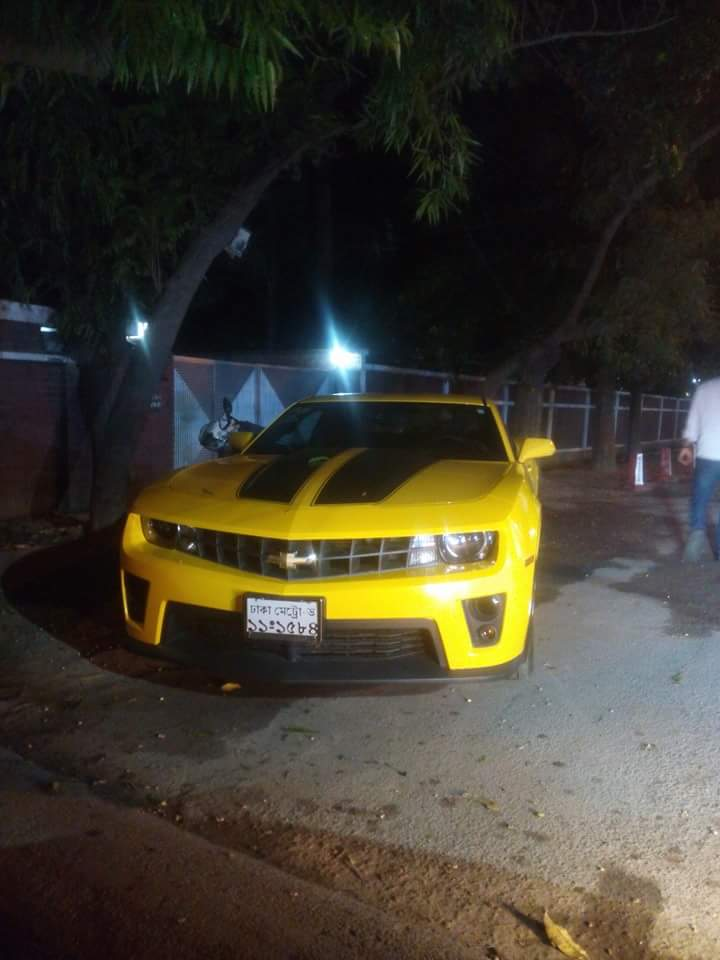registration_plate: (245, 596, 320, 638)
